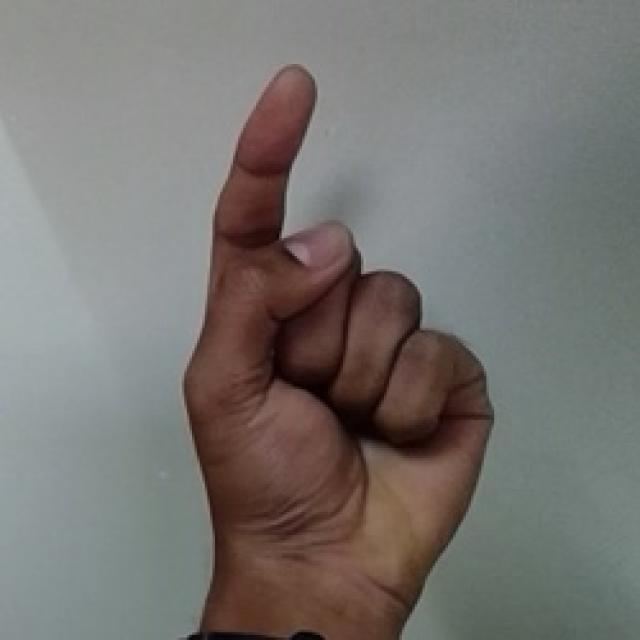Numeric-1: (187, 66, 492, 613)
